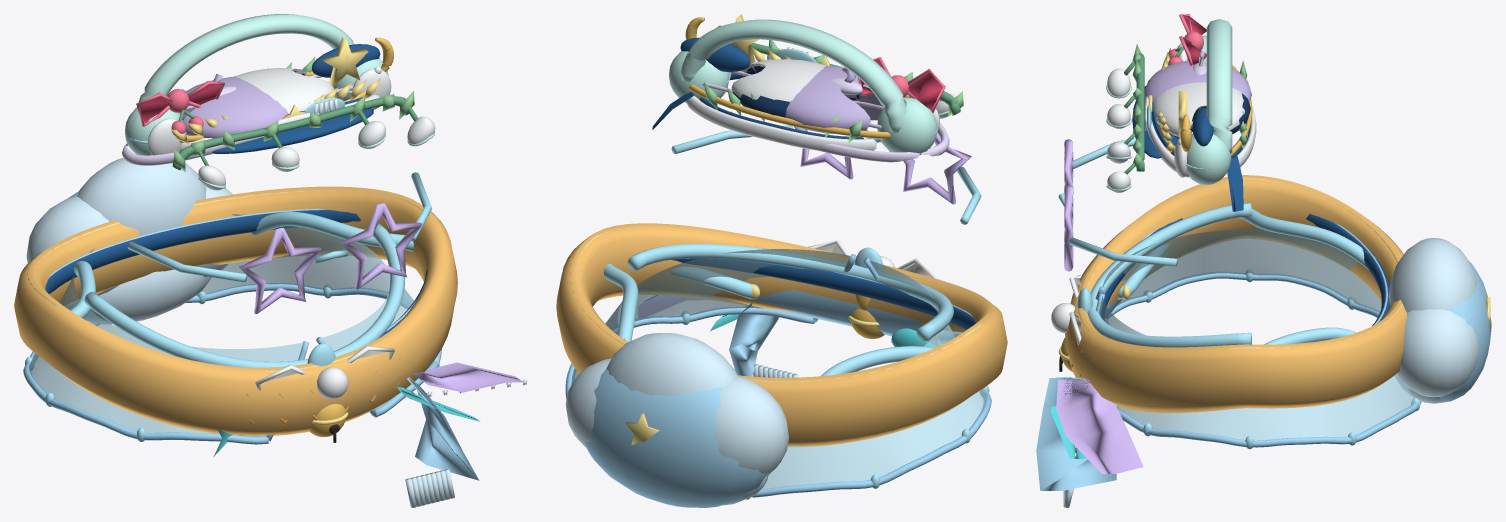
Rendered from nava-wardrobe-accessories-D52YppMb.glb.
The picture shows the model from 3 angles, left to right: view 1: azimuth 30°, elevation 25°; view 2: azimuth 150°, elevation 25°; view 3: azimuth 270°, elevation 25°; orthographic projection. The views are drawn at different scales.
Parts seen in each view (by area): view 1: honey knitted yarn | honey-neck-warmer, cloud-knit highlight | cloud-backpack, translucent raindrop ice | raindrop-cape, soft mint plush | mint-earmuffs, ice blue satin | raindrop-cape, cape edge opaque blue | raindrop-cape, iridescent lilac | star-glasses, navy enamel textile | bell-collar, mist lavender velvet | mist-beret, snow ivory | sailor-hat, Fitted curved shoulder strap -1, cloud-knit blue | cloud-scarf (+18 smaller); view 2: honey knitted yarn | honey-neck-warmer, translucent raindrop ice | raindrop-cape, cloud-knit blue | cloud-backpack, cloud-knit highlight | cloud-backpack, soft mint plush | mint-earmuffs, ice blue satin | raindrop-cape, snow ivory | sailor-hat, cloud-knit blue | cloud-scarf, Fitted curved shoulder strap -1, cape edge opaque blue | raindrop-cape, navy enamel textile | bell-collar, mist lavender velvet | mist-beret (+16 smaller); view 3: honey knitted yarn | honey-neck-warmer, translucent raindrop ice | raindrop-cape, cloud-knit highlight | cloud-backpack, ice blue satin | raindrop-cape, iridescent lilac | aurora-scarf, soft mint plush | mint-earmuffs, cape edge opaque blue | raindrop-cape, cloud-knit blue | cloud-scarf, Fitted curved shoulder strap -1, snow ivory | sailor-hat, cloud-knit blue | cloud-backpack, snow ivory | lily-garland (+12 smaller).
Boxes of the visible parts, bbox=[...] form: honey knitted yarn | honey-neck-warmer: bbox=[14, 186, 457, 435]; cloud-knit highlight | cloud-backpack: bbox=[26, 158, 232, 324]; translucent raindrop ice | raindrop-cape: bbox=[29, 214, 429, 436]; soft mint plush | mint-earmuffs: bbox=[125, 14, 388, 155]; ice blue satin | raindrop-cape: bbox=[25, 223, 439, 441]; cape edge opaque blue | raindrop-cape: bbox=[23, 283, 441, 444]; iridescent lilac | star-glasses: bbox=[239, 203, 422, 313]; navy enamel textile | bell-collar: bbox=[45, 210, 427, 335]; mist lavender velvet | mist-beret: bbox=[179, 74, 288, 138]; snow ivory | sailor-hat: bbox=[180, 68, 379, 151]; Fitted curved shoulder strap -1: bbox=[70, 211, 413, 318]; cloud-knit blue | cloud-scarf: bbox=[407, 377, 479, 480]; honey knitted yarn | honey-neck-warmer: bbox=[556, 223, 1007, 446]; translucent raindrop ice | raindrop-cape: bbox=[571, 249, 985, 489]; cloud-knit blue | cloud-backpack: bbox=[585, 369, 768, 507]; cloud-knit highlight | cloud-backpack: bbox=[565, 333, 788, 505]; soft mint plush | mint-earmuffs: bbox=[669, 19, 937, 155]; ice blue satin | raindrop-cape: bbox=[627, 244, 989, 499]; snow ivory | sailor-hat: bbox=[686, 47, 876, 150]; cloud-knit blue | cloud-scarf: bbox=[729, 290, 939, 376]; Fitted curved shoulder strap -1: bbox=[604, 263, 962, 375]; cape edge opaque blue | raindrop-cape: bbox=[565, 254, 991, 497]; navy enamel textile | bell-collar: bbox=[671, 258, 975, 329]; mist lavender velvet | mist-beret: bbox=[785, 65, 883, 133]; honey knitted yarn | honey-neck-warmer: bbox=[1065, 175, 1406, 412]; translucent raindrop ice | raindrop-cape: bbox=[1099, 229, 1414, 440]; cloud-knit highlight | cloud-backpack: bbox=[1388, 238, 1478, 403]; ice blue satin | raindrop-cape: bbox=[1077, 203, 1420, 449]; iridescent lilac | aurora-scarf: bbox=[1056, 379, 1143, 473]; soft mint plush | mint-earmuffs: bbox=[1187, 19, 1232, 184]; cape edge opaque blue | raindrop-cape: bbox=[1095, 272, 1421, 447]; cloud-knit blue | cloud-scarf: bbox=[1036, 300, 1119, 490]; Fitted curved shoulder strap -1: bbox=[1117, 208, 1368, 344]; snow ivory | sailor-hat: bbox=[1144, 82, 1256, 177]; cloud-knit blue | cloud-backpack: bbox=[1439, 261, 1491, 402]; snow ivory | lily-garland: bbox=[1107, 68, 1130, 192].
Bounding box in the file's own units: 1.54 × 1.6 × 1.58.
